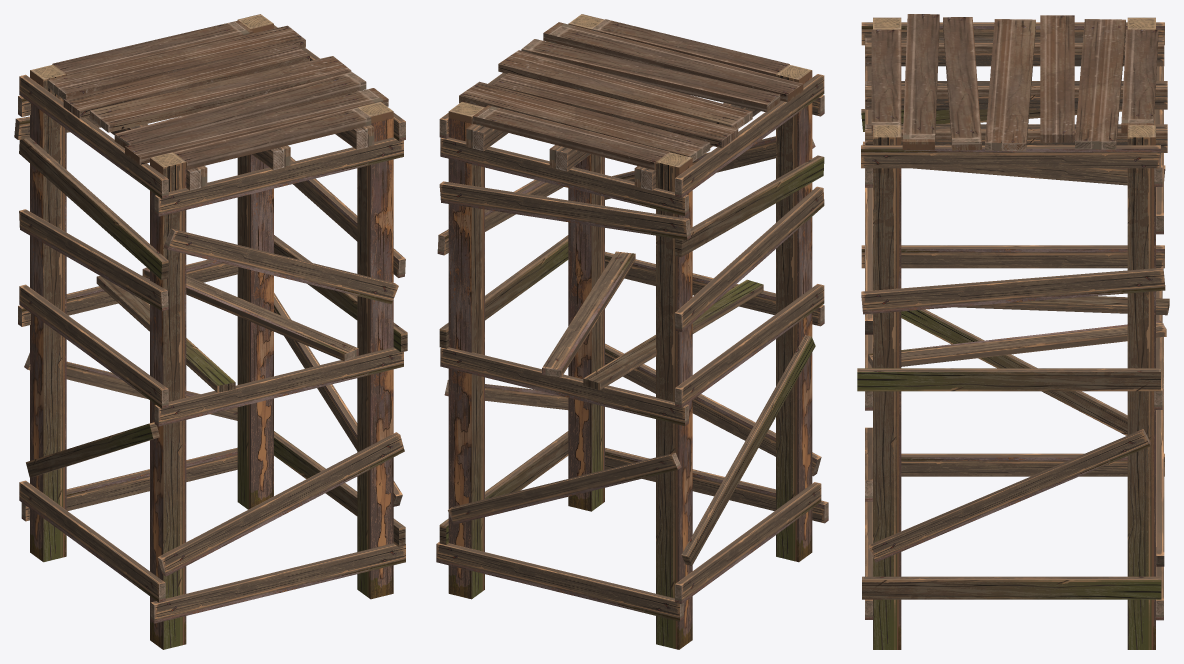
Rendered from Bottom.fbx.
3 views of the same model, side by side, from view 1: azimuth 30°, elevation 25°; view 2: azimuth 150°, elevation 25°; view 3: azimuth 270°, elevation 25° (orthographic). The views are drawn at different scales.
Parts seen in each view (by area): view 1: Cut_11, Cut_4, Cut_9, Cut_16, Cut_3, Cut_12, Cut_10, Cut_14, Cut_15, Cut_7, Cut_13, Cut_1 (+5 smaller); view 2: Cut_11, Cut_4, Cut_16, Cut_3, Cut_12, Cut_17, Cut_14, Cut_15, Cut_13, Cut_1, Cut_18, Cut_5 (+5 smaller); view 3: Cut_12, Cut_4, Cut_16, Cut_14, Cut_11, Cut_7, Cut_13, Cut_5, Cut_8, Cut_3, Cut_6, Cut_9 (+5 smaller).
Boxes of the visible parts, <box> form: Cut_11: <box>19,284,186,649</box>; Cut_4: <box>47,45,313,190</box>; Cut_9: <box>154,137,403,426</box>; Cut_16: <box>131,20,388,149</box>; Cut_3: <box>19,64,138,388</box>; Cut_12: <box>237,207,357,509</box>; Cut_10: <box>150,432,405,623</box>; Cut_14: <box>325,292,407,599</box>; Cut_15: <box>83,119,186,369</box>; Cut_7: <box>313,57,405,315</box>; Cut_13: <box>96,267,358,392</box>; Cut_1: <box>21,447,237,521</box>; Cut_11: <box>656,237,824,649</box>; Cut_4: <box>564,34,803,190</box>; Cut_16: <box>459,19,665,170</box>; Cut_3: <box>656,133,800,457</box>; Cut_12: <box>439,267,552,599</box>; Cut_17: <box>439,137,690,240</box>; Cut_14: <box>511,222,604,511</box>; Cut_15: <box>738,64,824,258</box>; Cut_13: <box>542,251,763,390</box>; Cut_1: <box>436,542,683,621</box>; Cut_18: <box>440,347,688,425</box>; Cut_5: <box>448,101,484,306</box>; Cut_12: <box>934,331,1161,649</box>; Cut_4: <box>865,14,1164,109</box>; Cut_16: <box>865,70,1167,152</box>; Cut_14: <box>857,340,1032,649</box>; Cut_11: <box>861,245,1164,476</box>; Cut_7: <box>861,125,1046,340</box>; Cut_13: <box>868,296,1169,367</box>; Cut_5: <box>1127,125,1155,332</box>; Cut_8: <box>1001,267,1165,303</box>; Cut_3: <box>915,17,1165,185</box>; Cut_6: <box>1041,145,1160,168</box>; Cut_9: <box>865,45,872,410</box>.
Bounding box in the file's own units: 331 × 600 × 331.
1 material, 1 textured.
